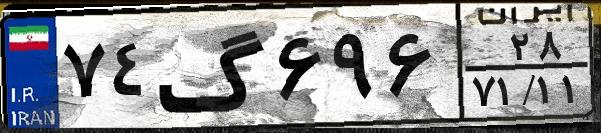1: (560, 70, 590, 125), (495, 70, 520, 125), (535, 70, 560, 125)
2: (508, 27, 537, 80)
4: (110, 28, 156, 98)
6: (270, 28, 330, 110), (385, 28, 445, 110)
7: (57, 26, 110, 100), (470, 70, 495, 125)
8: (537, 27, 568, 80)
9: (330, 28, 385, 110)
گ: (156, 12, 270, 120)
